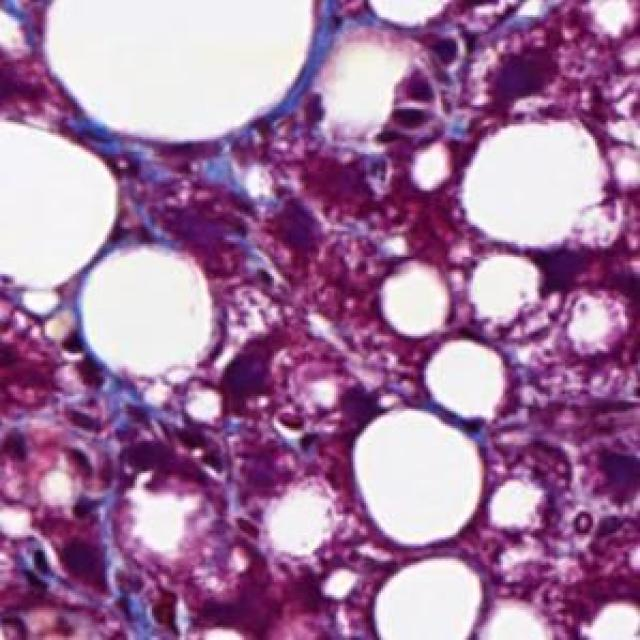inflammation: (58, 390, 222, 492), (385, 64, 460, 137)
